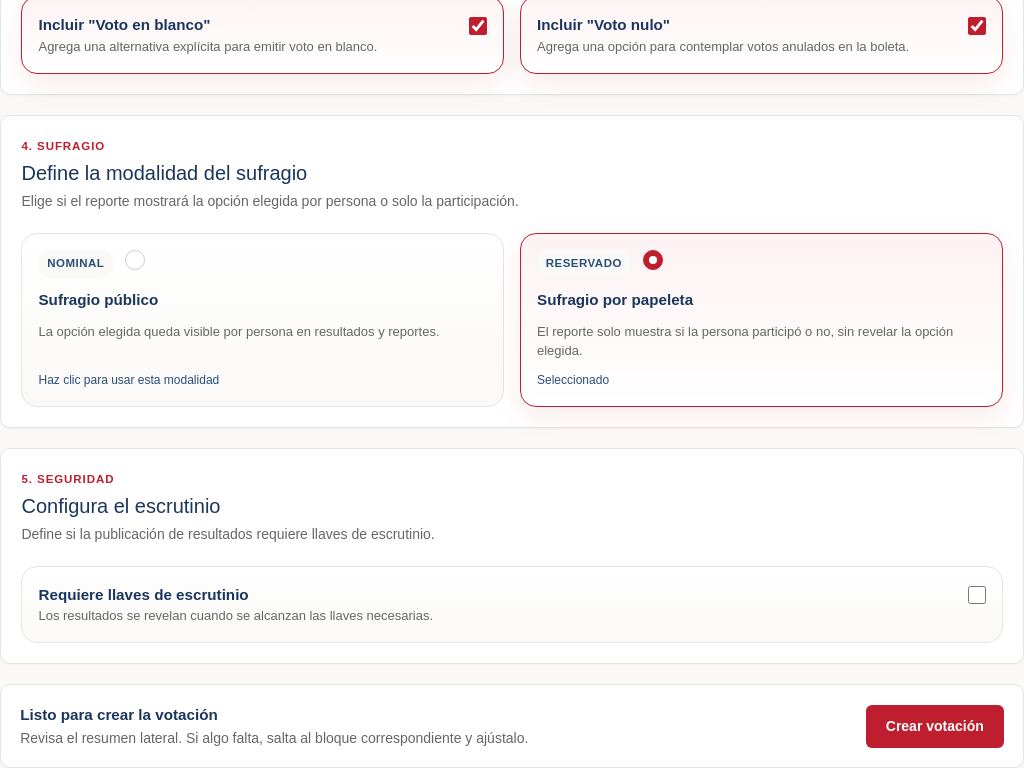
Flujo de integración: creación de elecciones › muestra error de validación si se intenta crear sin título
(page scrolled)
Click the button "Crear votación": (935, 726) x1=866 y1=705 x2=1004 y2=748
(page scrolled)
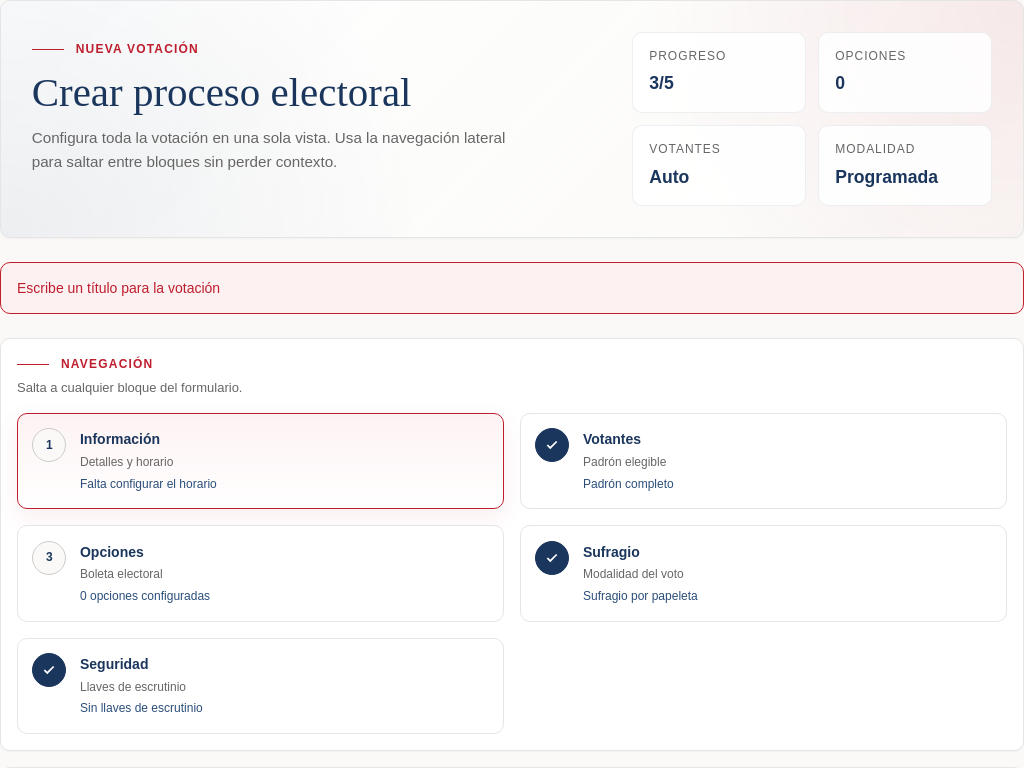
Check: the text "Escribe un título para la votación" is shown, box x1=0 y1=262 x2=1023 y2=314
